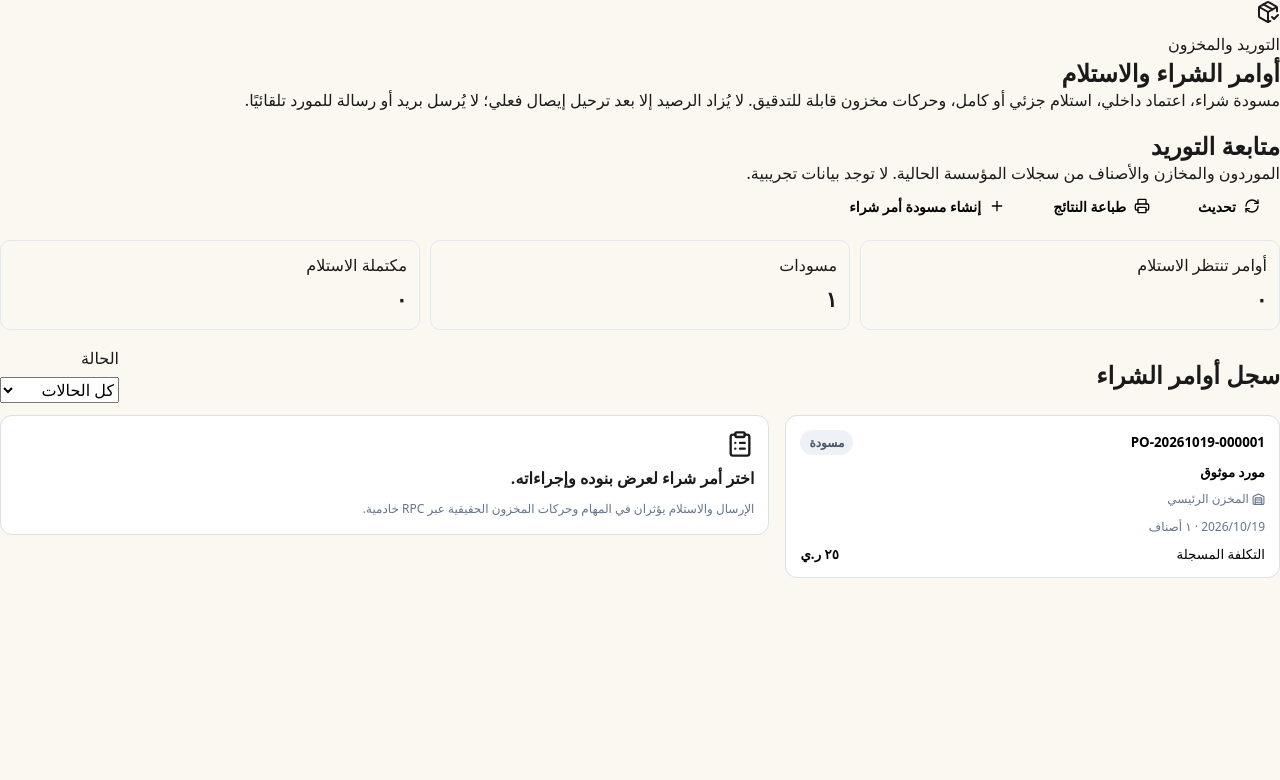
Test: purchase orders page › rejects duplicate products before submitting a purchase draft
This screenshot has width=1280, height=780.
Expected: the text "PO-20261019-000001" is shown, [1131, 433, 1265, 451]
Click the button "إنشاء مسودة أمر شراء": {"x": 927, "y": 206} [829, 187, 1025, 226]
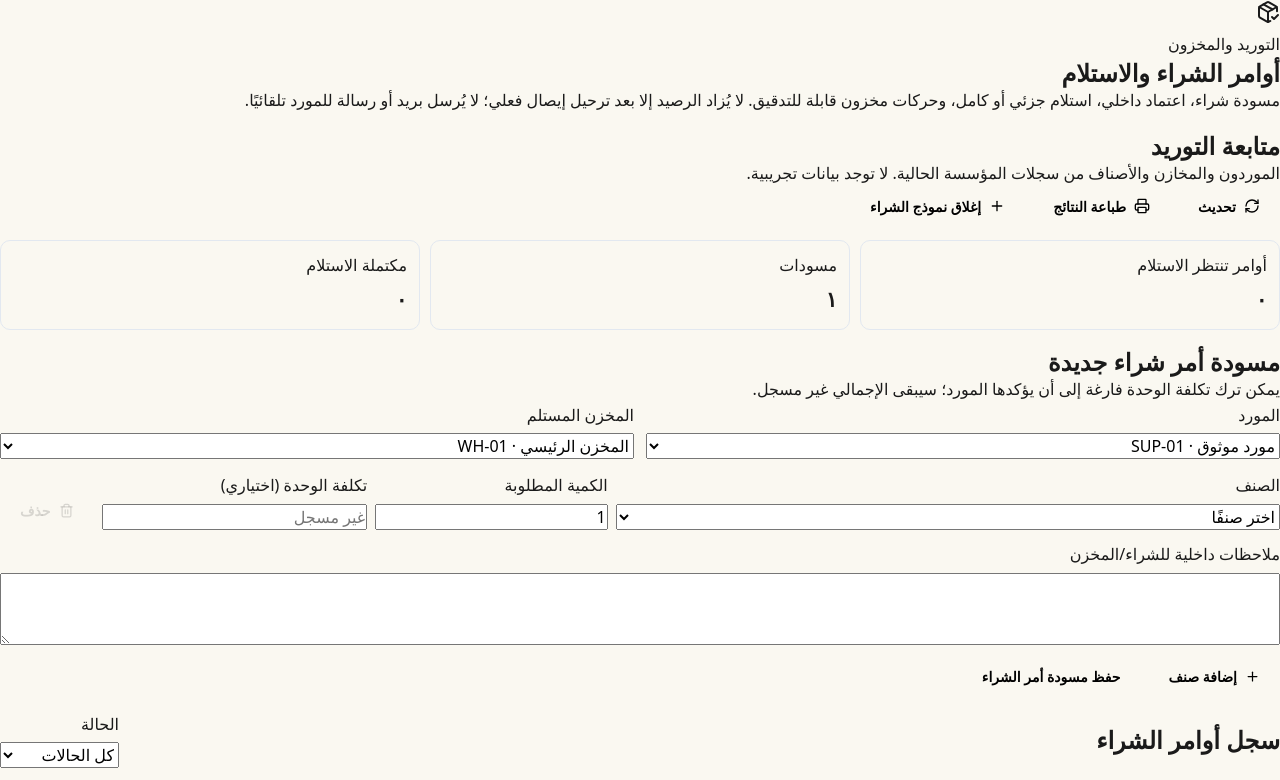
Select "سكر · 0000125" in the dropdown labelled "الصنف": {"x": 948, "y": 517} [616, 504, 1279, 530]
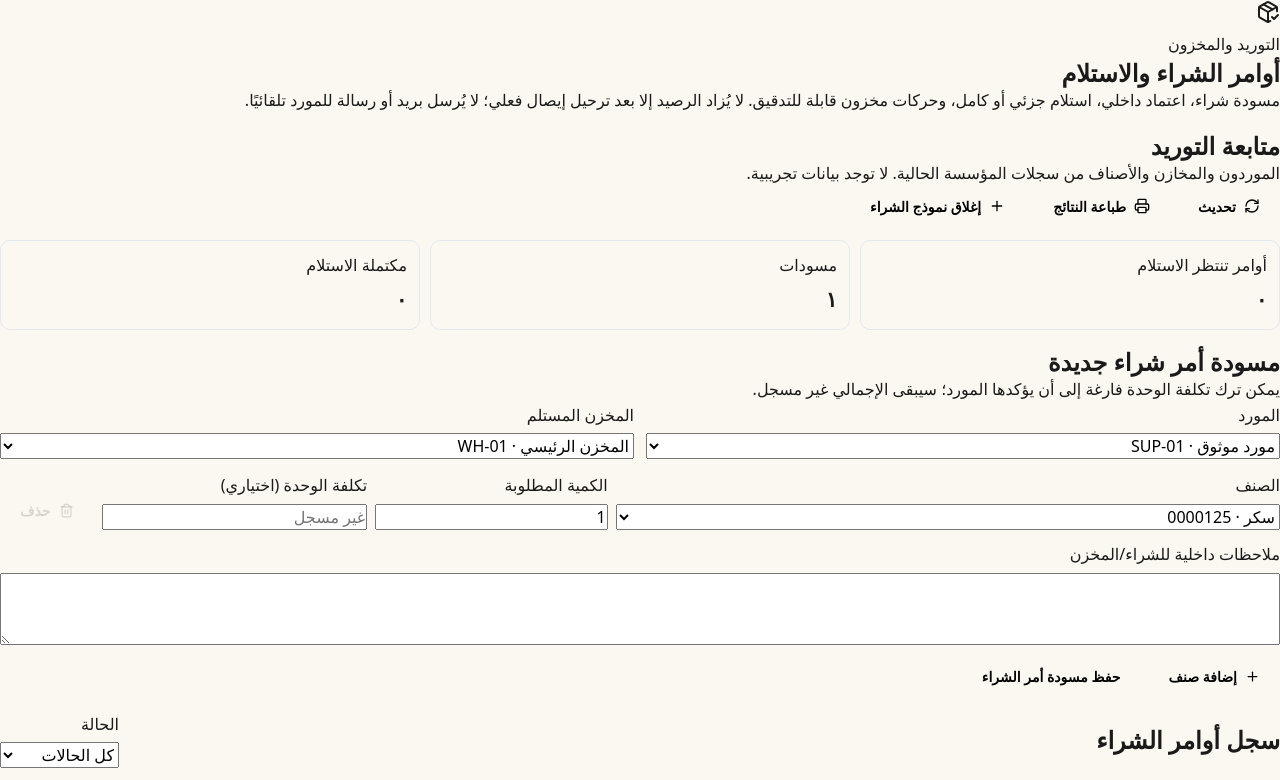
Click the button "إضافة صنف": {"x": 1214, "y": 676} [1148, 656, 1279, 696]
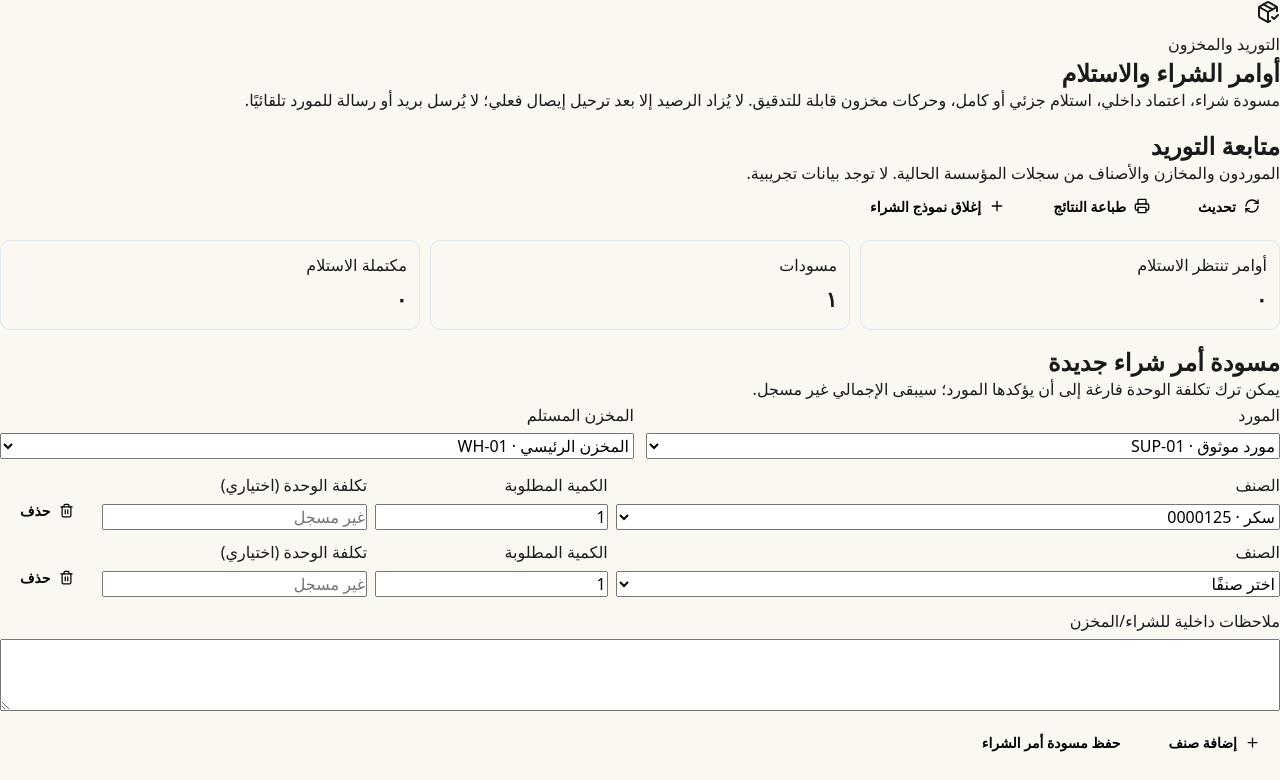
Select "سكر · 0000125" in the 2nd dropdown labelled "الصنف": {"x": 948, "y": 584} [616, 570, 1279, 596]
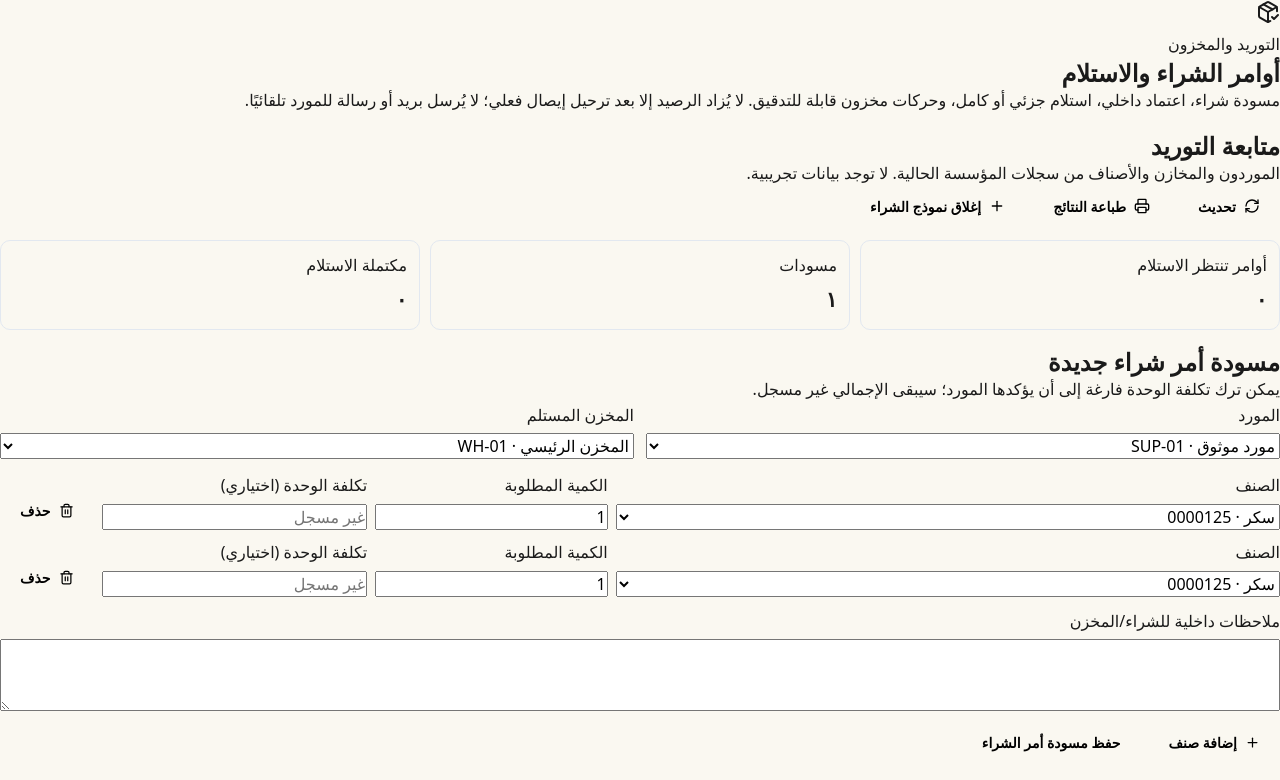
Click the button "حفظ مسودة أمر الشراء": {"x": 1051, "y": 743} [962, 723, 1140, 762]
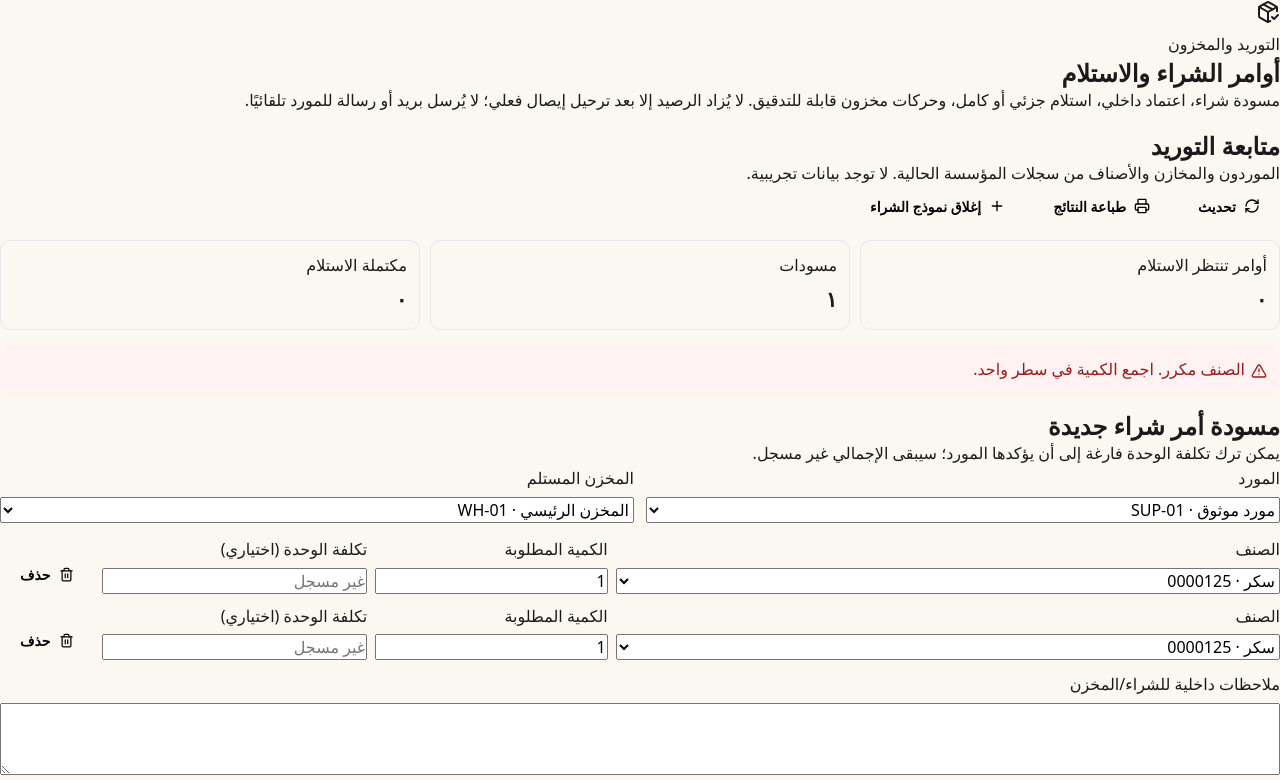
Expected: the message shows "الصنف مكرر", [973, 358, 1245, 380]
